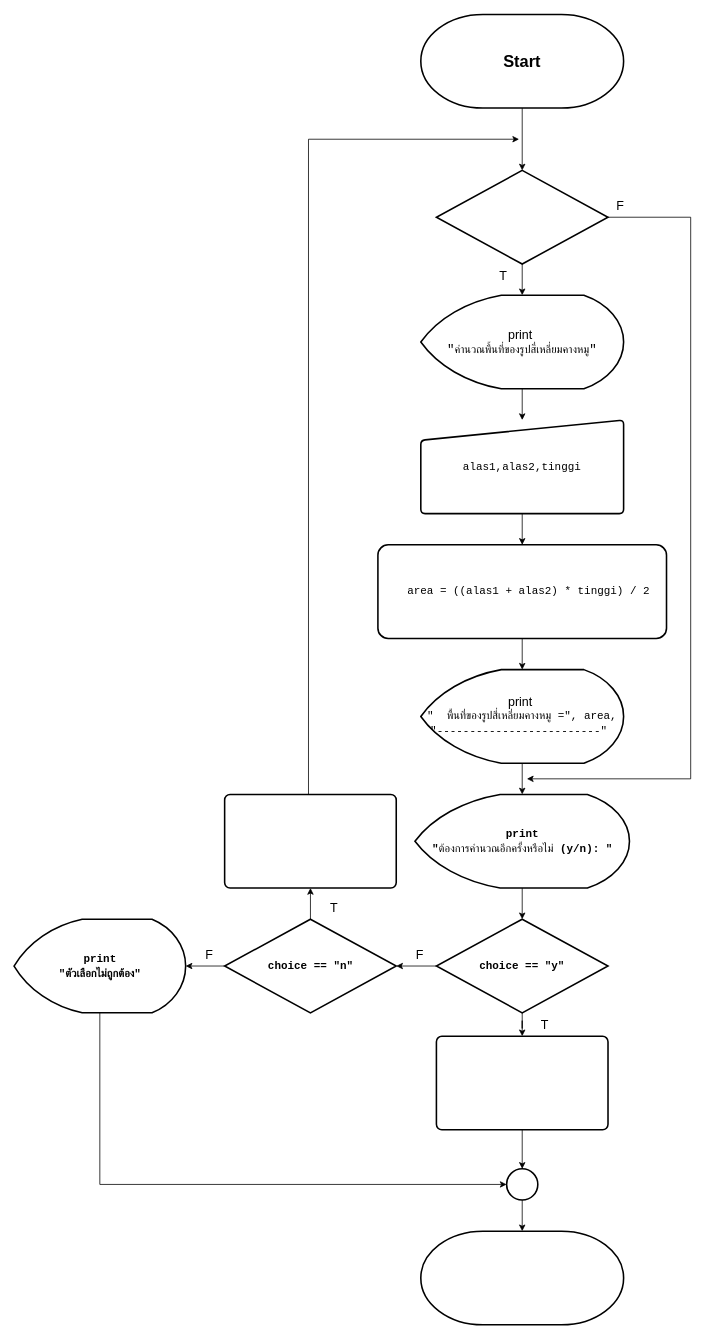
Image size: 711x1338. Some labels were removed from this diagram. Here are the shapes that lost their labels. From the top down, the centre of each, then its label:
At pixel 521 216: "True".
At pixel 310 840: "continue".
At pixel 521 1082: "break".
At pixel 522 1277: "Stop".
